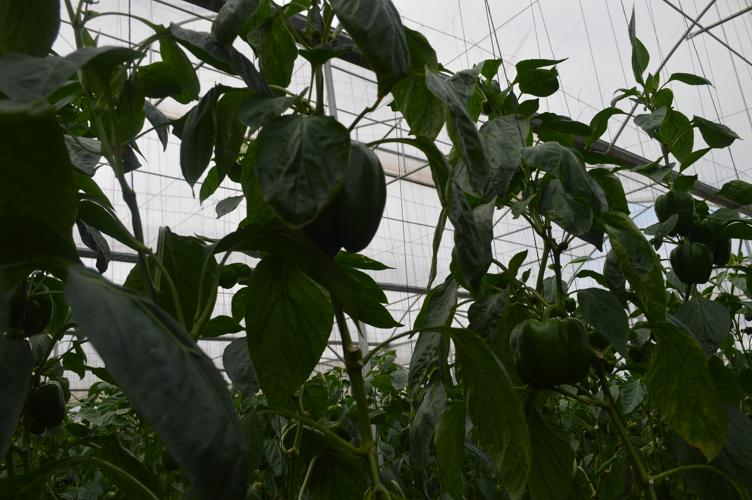BellPepper: (289, 137, 381, 251), (510, 319, 588, 389), (17, 285, 54, 335), (25, 379, 62, 429), (650, 191, 691, 236), (676, 243, 711, 279)
